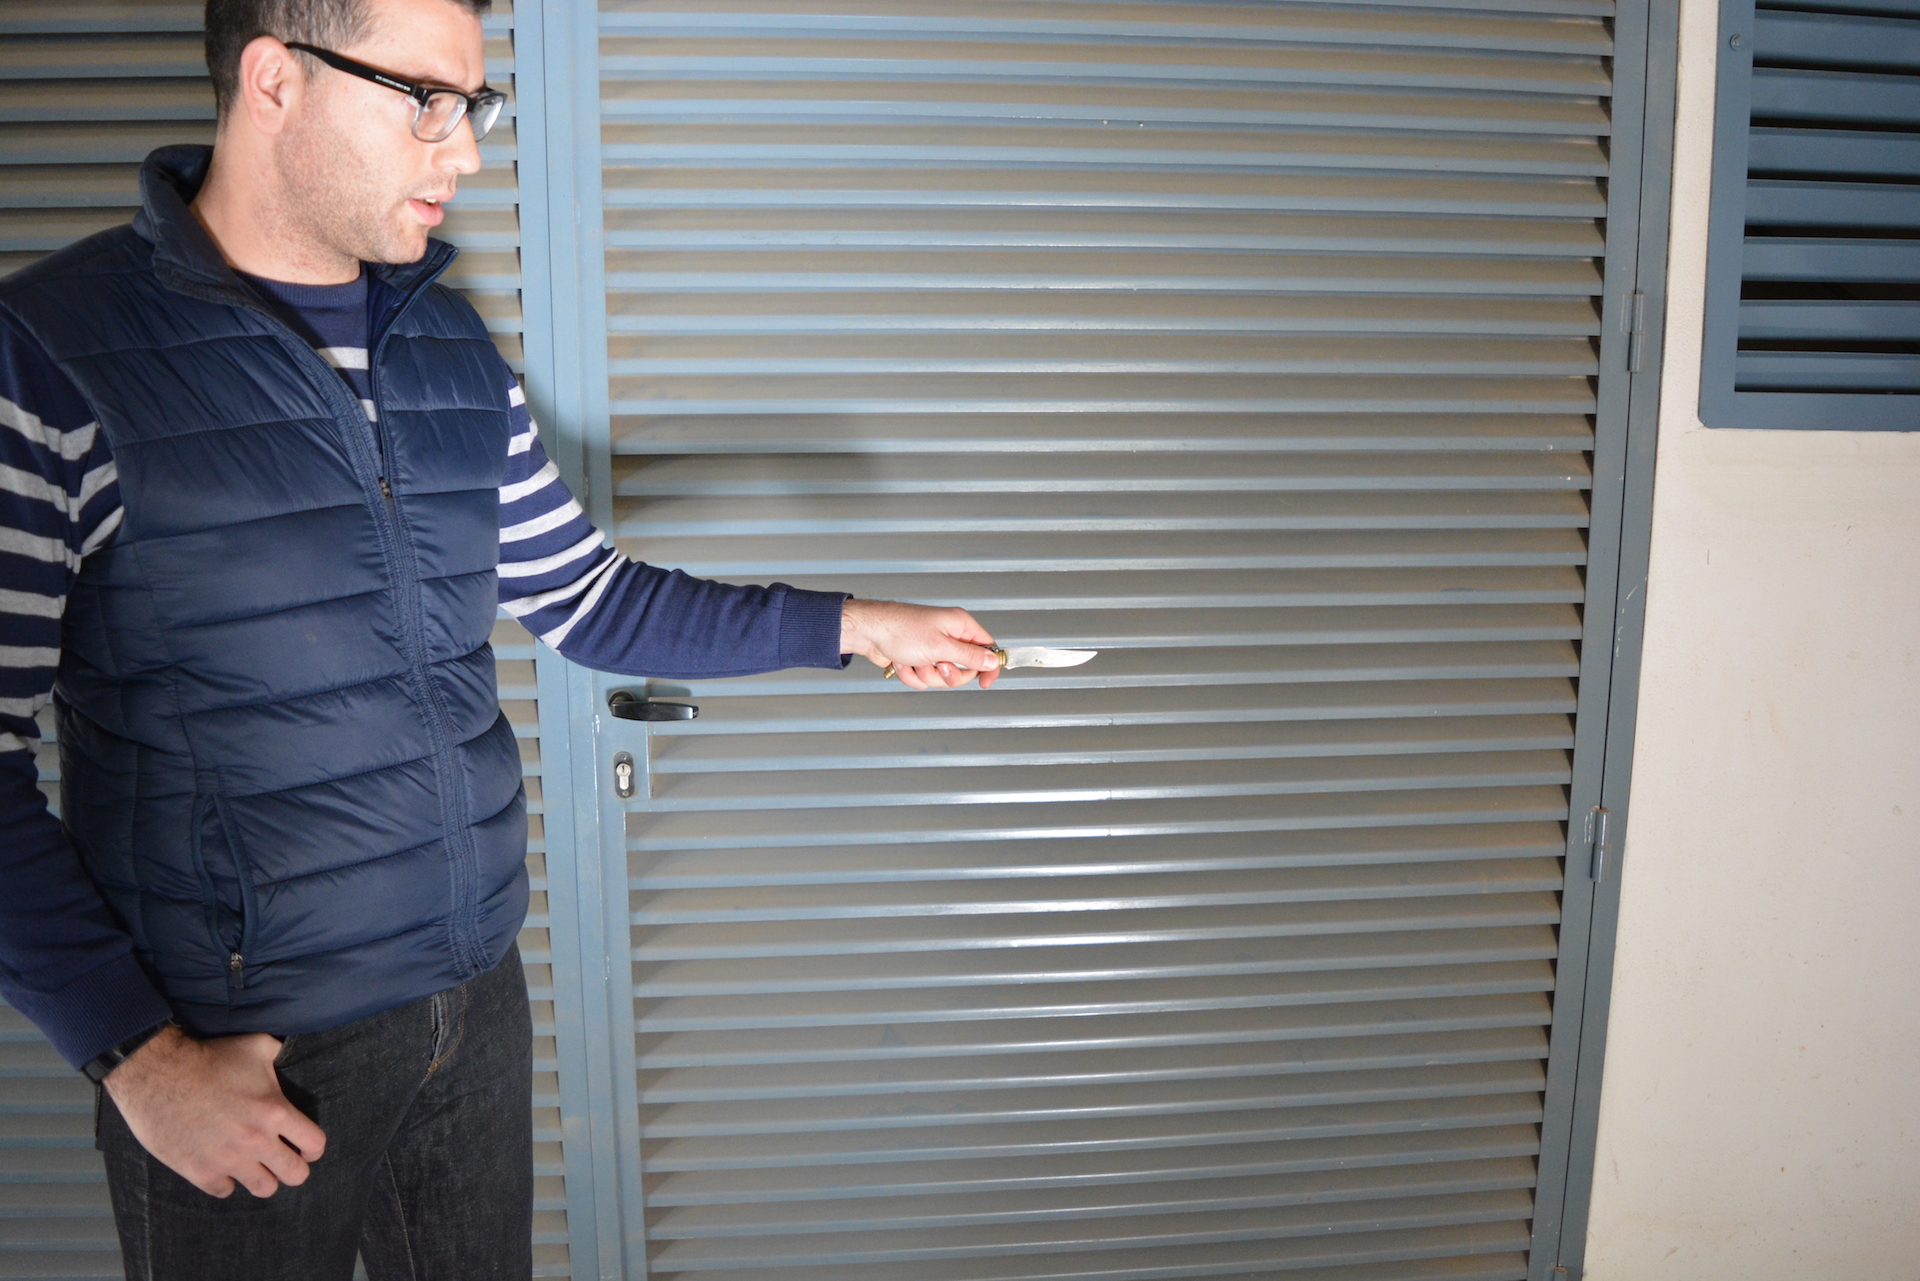knife: (874, 643, 1107, 693)
